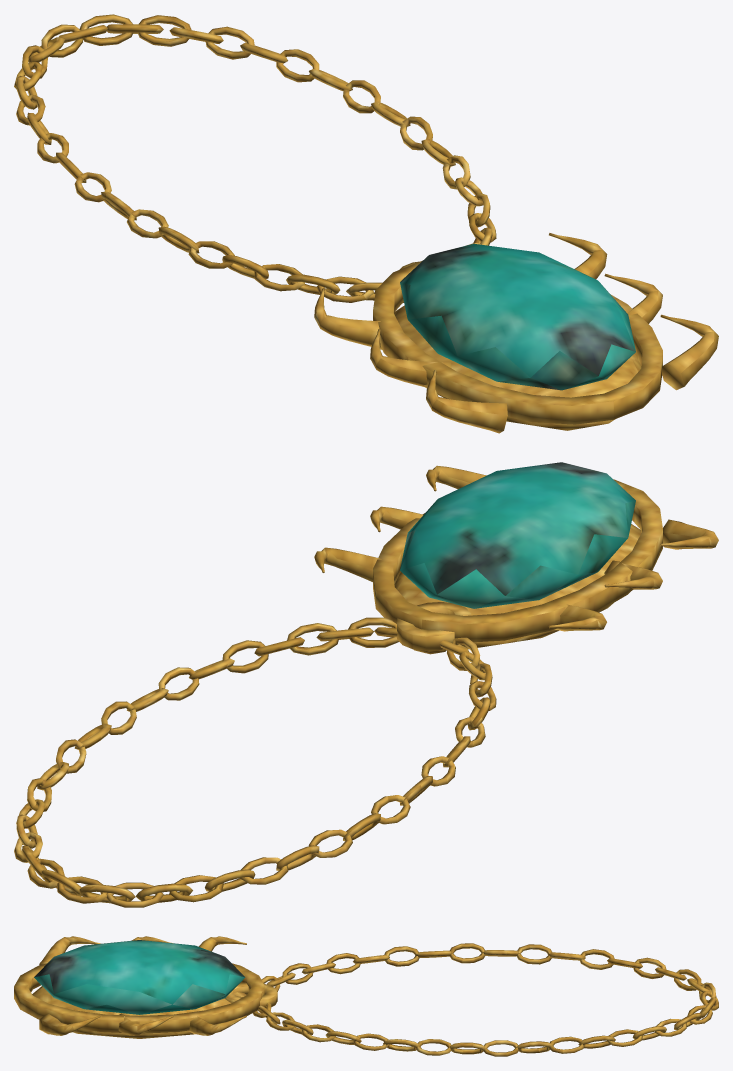
Rendered from item_amulet1.glb.
3 views of the same model, one above another, from view 1: azimuth 30°, elevation 25°; view 2: azimuth 150°, elevation 25°; view 3: azimuth 270°, elevation 25° (orthographic). The views are drawn at different scales.
Visible parts, largest first — view 1: amulet_amulet1; view 2: amulet_amulet1; view 3: amulet_amulet1.
Boxes of the visible parts, bbox=[...] form: amulet_amulet1: bbox=[14, 14, 718, 433]; amulet_amulet1: bbox=[14, 462, 718, 907]; amulet_amulet1: bbox=[14, 936, 718, 1056].
Bounding box in the file's own units: 0.7978 × 0.24 × 2.31.
2 materials, 2 textured.
